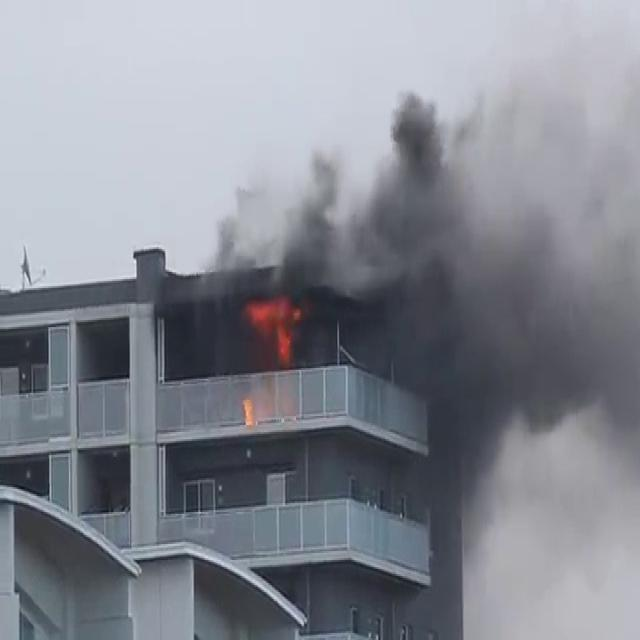Fire: (238, 288, 310, 364)
Smoke: (266, 16, 640, 590)
